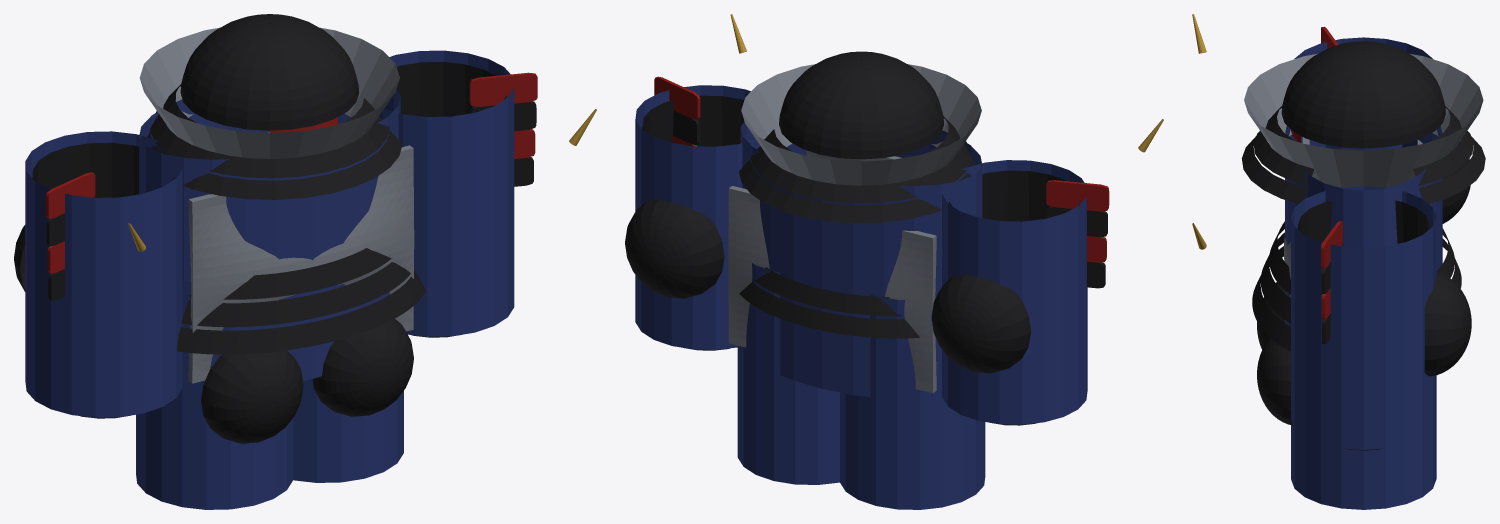
Rendered from japanese.obj.
3 views of the same model, side by side, from view 1: azimuth 30°, elevation 25°; view 2: azimuth 150°, elevation 25°; view 3: azimuth 270°, elevation 25° (orthographic). The views are drawn at different scales.
Visible parts, largest first — view 1: under_arm_L, under_arm_R, kabuto_hachi, under_torso, cuirass_front, under_leg_L, gorget, under_leg_R, poleyn_L, poleyn_R, fauld_front_2, fauld_front_1 (+8 smaller); view 2: under_arm_L, under_torso, under_leg_L, kabuto_hachi, under_arm_R, under_leg_R, cuirass_back, gorget, couter_R, couter_L, shikoro_1, shikoro_2 (+8 smaller); view 3: under_arm_R, kabuto_hachi, gorget, under_leg_R, under_torso, couter_R, shikoro_2, shikoro_1, poleyn_R, rerebrace_R, fauld_front_2, under_arm_L (+6 smaller).
Boxes of the visible parts, x1=… form: under_arm_L: x1=25, y1=131, x2=182, y2=417; under_arm_R: x1=372, y1=50, x2=514, y2=336; kabuto_hachi: x1=180, y1=14, x2=359, y2=130; under_torso: x1=139, y1=90, x2=400, y2=380; cuirass_front: x1=188, y1=145, x2=414, y2=383; under_leg_L: x1=136, y1=280, x2=293, y2=509; gorget: x1=139, y1=27, x2=399, y2=158; under_leg_R: x1=293, y1=292, x2=403, y2=482; poleyn_L: x1=201, y1=350, x2=303, y2=443; poleyn_R: x1=312, y1=319, x2=413, y2=416; fauld_front_2: x1=176, y1=270, x2=425, y2=354; fauld_front_1: x1=181, y1=262, x2=414, y2=327; under_arm_L: x1=942, y1=160, x2=1087, y2=424; under_torso: x1=740, y1=121, x2=982, y2=397; under_leg_L: x1=840, y1=295, x2=985, y2=509; kabuto_hachi: x1=779, y1=51, x2=943, y2=159; under_arm_R: x1=635, y1=85, x2=766, y2=349; under_leg_R: x1=737, y1=263, x2=839, y2=484; cuirass_back: x1=728, y1=186, x2=936, y2=393; gorget: x1=741, y1=64, x2=981, y2=185; couter_R: x1=625, y1=199, x2=724, y2=298; couter_L: x1=931, y1=274, x2=1030, y2=373; shikoro_1: x1=750, y1=141, x2=971, y2=203; shikoro_2: x1=739, y1=159, x2=974, y2=223; under_arm_R: x1=1291, y1=186, x2=1436, y2=449; kabuto_hachi: x1=1281, y1=41, x2=1445, y2=148; gorget: x1=1244, y1=53, x2=1483, y2=187; under_leg_R: x1=1291, y1=419, x2=1436, y2=509; under_torso: x1=1285, y1=125, x2=1442, y2=325; couter_R: x1=1424, y1=272, x2=1471, y2=376; shikoro_2: x1=1241, y1=136, x2=1485, y2=203; shikoro_1: x1=1253, y1=131, x2=1473, y2=185; poleyn_R: x1=1257, y1=325, x2=1293, y2=425; rerebrace_R: x1=1297, y1=200, x2=1429, y2=243; fauld_front_2: x1=1252, y1=246, x2=1290, y2=351; under_arm_L: x1=1294, y1=37, x2=1432, y2=187.
Bounding box in the file's own units: 4.44 × 3.81 × 2.5.
